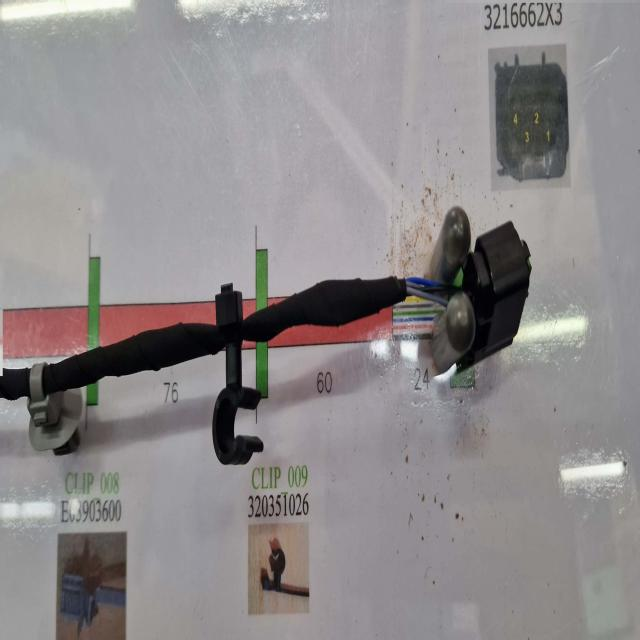Clip: (212, 284, 262, 466), (28, 362, 82, 454)
Connector: (457, 221, 532, 370)
Gape: (395, 258, 476, 341)
MHEV_N11_Cable: (7, 274, 406, 461)
